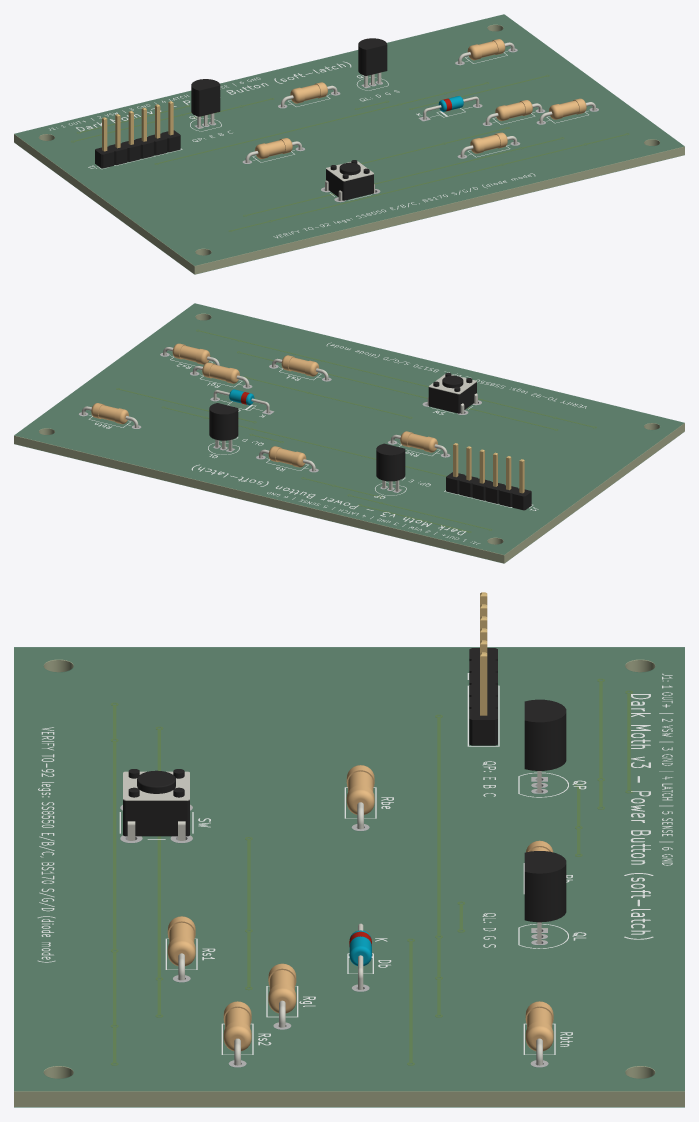
Rendered from board_full.glb.
The picture shows the model from 3 angles, top to bottom: view 1: azimuth 30°, elevation 25°; view 2: azimuth 150°, elevation 25°; view 3: azimuth 270°, elevation 25°; orthographic projection. The views are drawn at different scales.
Parts seen in each view (by area): view 1: =>[0:1:1:16], =>[0:1:1:18], =>[0:1:1:3] (×6), =>[0:1:1:9], =>[0:1:1:11] (×2), =>[0:1:1:15], =>[0:1:1:7], =>[0:1:1:13], =>[0:1:1:17], =>[0:1:1:12], =>[0:1:1:5]; view 2: =>[0:1:1:16], =>[0:1:1:18], =>[0:1:1:3] (×6), =>[0:1:1:9], =>[0:1:1:15], =>[0:1:1:11] (×2), =>[0:1:1:7], =>[0:1:1:17], =>[0:1:1:13], =>[0:1:1:12], =>[0:1:1:5]; view 3: =>[0:1:1:16], =>[0:1:1:18], =>[0:1:1:3] (×5), =>[0:1:1:15], =>[0:1:1:11] (×2), =>[0:1:1:7], =>[0:1:1:12], =>[0:1:1:9], =>[0:1:1:13], =>[0:1:1:5].
Part boxes in pixels (<box>): =>[0:1:1:16]: <box>14,14,684,265</box>; =>[0:1:1:18]: <box>14,15,684,274</box>; =>[0:1:1:3] (×6): <box>245,39,595,162</box>; =>[0:1:1:9]: <box>95,101,180,168</box>; =>[0:1:1:11] (×2): <box>191,38,387,127</box>; =>[0:1:1:15]: <box>49,51,588,238</box>; =>[0:1:1:7]: <box>325,160,374,200</box>; =>[0:1:1:13]: <box>194,48,598,202</box>; =>[0:1:1:17]: <box>15,143,684,274</box>; =>[0:1:1:12]: <box>71,76,625,230</box>; =>[0:1:1:5]: <box>423,96,479,119</box>; =>[0:1:1:16]: <box>14,303,684,554</box>; =>[0:1:1:18]: <box>14,304,684,563</box>; =>[0:1:1:3] (×6): <box>81,343,447,471</box>; =>[0:1:1:9]: <box>446,443,531,510</box>; =>[0:1:1:15]: <box>88,342,586,544</box>; =>[0:1:1:11] (×2): <box>209,403,405,491</box>; =>[0:1:1:7]: <box>427,372,477,413</box>; =>[0:1:1:17]: <box>14,432,683,563</box>; =>[0:1:1:13]: <box>79,353,481,492</box>; =>[0:1:1:12]: <box>119,330,596,531</box>; =>[0:1:1:5]: <box>213,389,269,413</box>; =>[0:1:1:16]: <box>14,647,684,1091</box>; =>[0:1:1:18]: <box>14,648,684,1106</box>; =>[0:1:1:3] (×5): <box>167,765,553,1065</box>; =>[0:1:1:15]: <box>37,673,673,1054</box>; =>[0:1:1:11] (×2): <box>524,699,566,944</box>; =>[0:1:1:7]: <box>123,769,189,840</box>; =>[0:1:1:12]: <box>111,679,632,1064</box>; =>[0:1:1:9]: <box>469,592,497,745</box>; =>[0:1:1:13]: <box>120,777,548,1067</box>; =>[0:1:1:5]: <box>349,923,371,989</box>.
Bounding box in the file's own units: 0.094 × 0.012 × 0.06.
